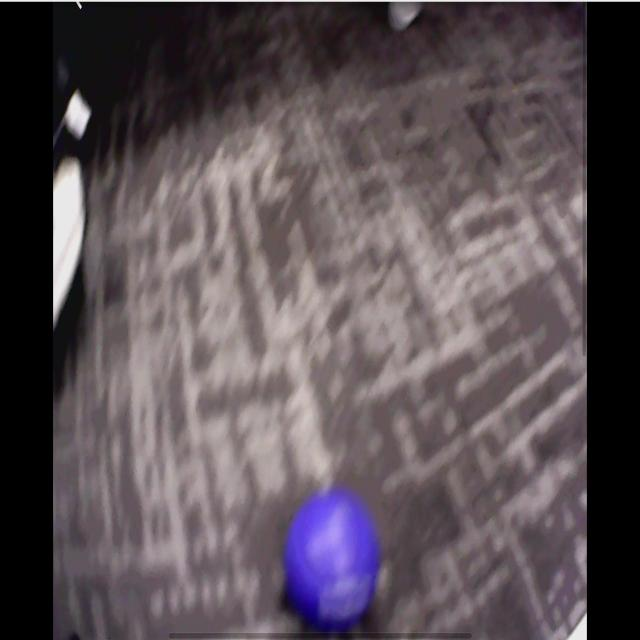ball: (289, 493, 378, 629)
